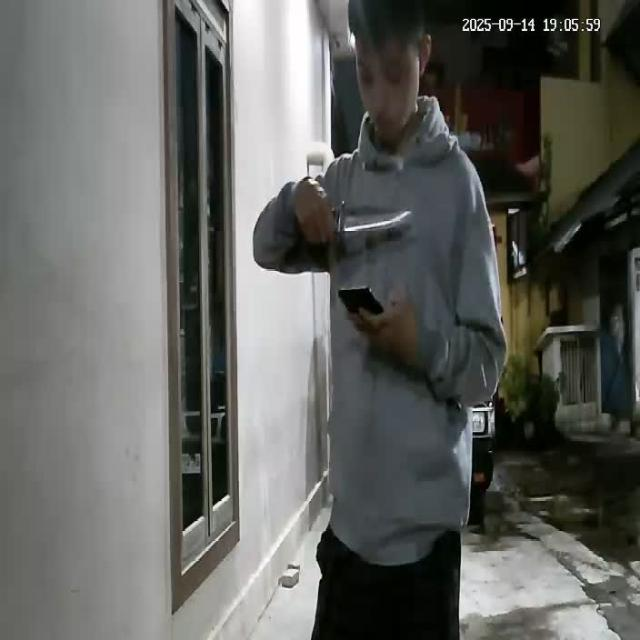senjata_tajam: (334, 201, 412, 235)
